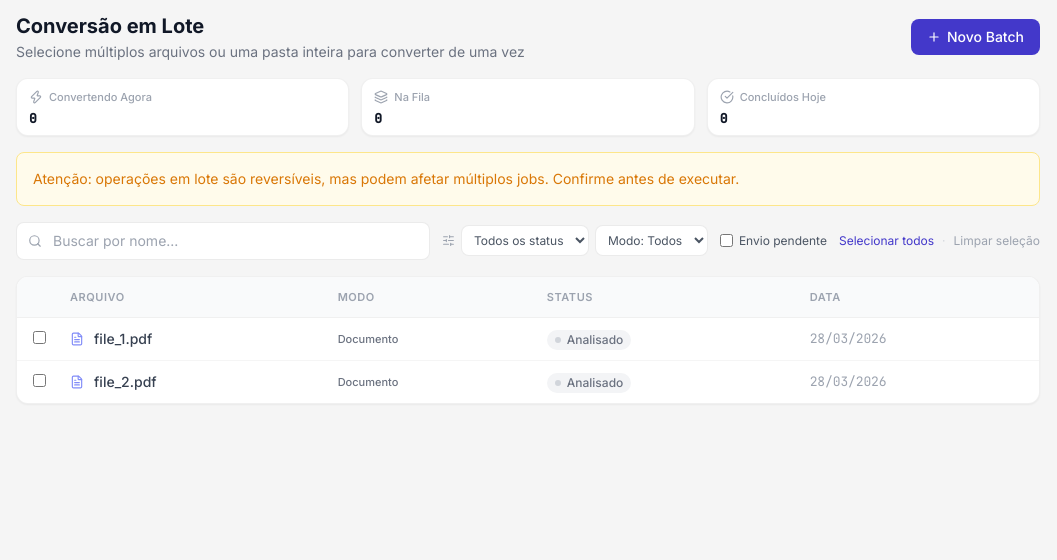
it: BatchPage › botões de export e apply-suggestions ficam desabilitados quando apenas doc jobs selecionados
Check: the text "file_1.pdf" is shown, box [94,328,152,348]
Click the checkbox named "file_1.pdf" at (40, 337), box [33,330,46,344]
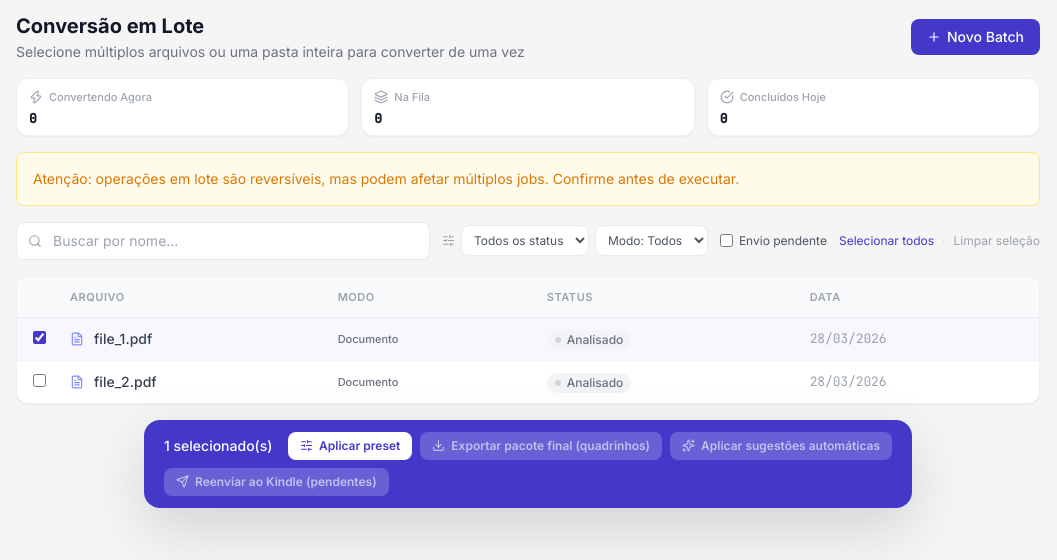
Check: the button "Exportar pacote final (quadrinhos)" is disabled, box [420,432,662,460]
Check: the button "Aplicar sugestões automáticas" is disabled, box [670,432,892,460]
